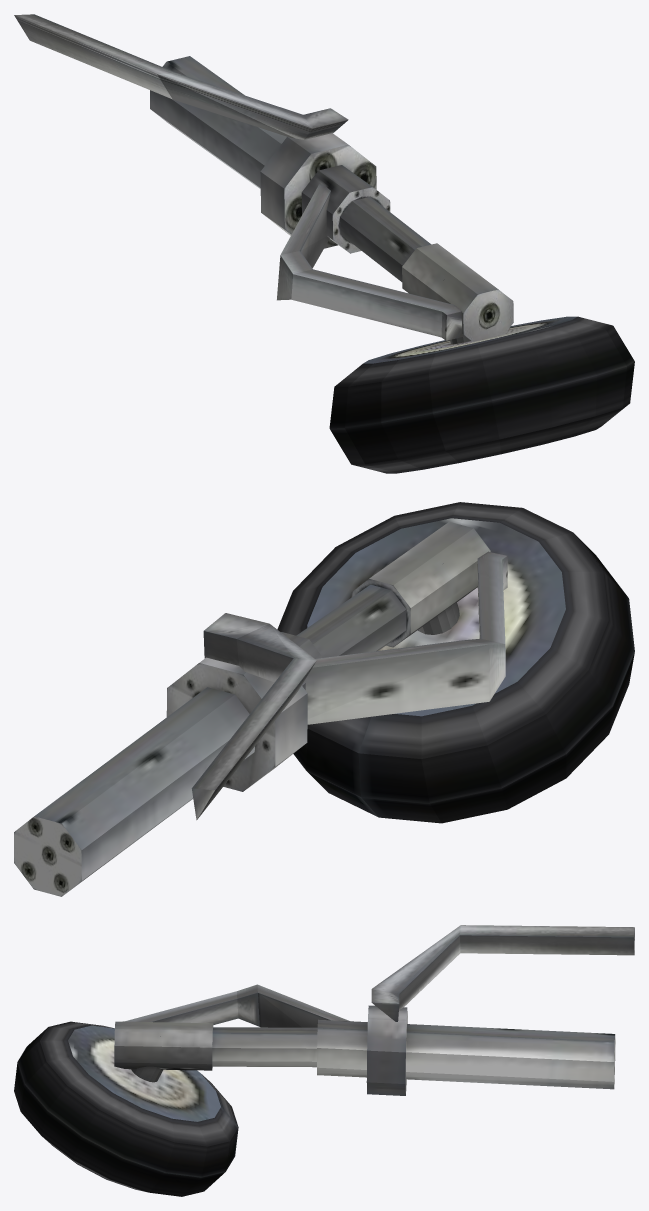
Rendered from trainArA.fbx.
The picture shows the model from 3 angles, top to bottom: view 1: azimuth 30°, elevation 25°; view 2: azimuth 150°, elevation 25°; view 3: azimuth 270°, elevation 25°; orthographic projection. The views are drawn at different scales.
Visible parts, largest first — view 1: ShapeIndexedFaceSet; view 2: ShapeIndexedFaceSet; view 3: ShapeIndexedFaceSet.
Part boxes in pixels (x1=…): ShapeIndexedFaceSet: x1=14, y1=14, x2=634, y2=473; ShapeIndexedFaceSet: x1=14, y1=502, x2=634, y2=896; ShapeIndexedFaceSet: x1=14, y1=925, x2=634, y2=1196.
Size of the model in its own units: 0.6994 by 0.6778 by 1.8.
